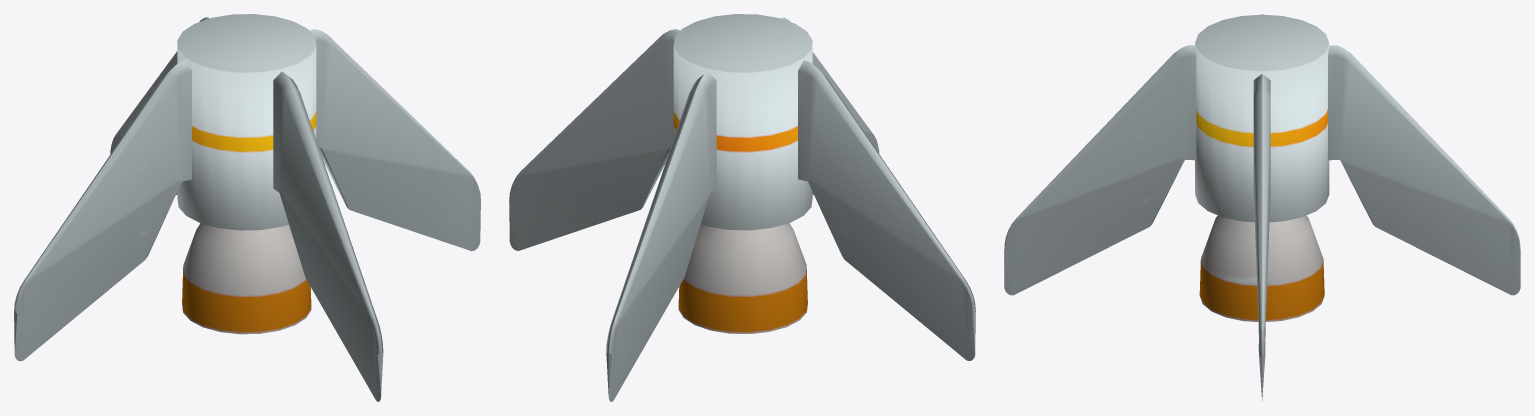
3 renders of one model, left to right at view 1: azimuth 30°, elevation 25°; view 2: azimuth 150°, elevation 25°; view 3: azimuth 270°, elevation 25°, orthographic. The views are drawn at different scales.
Visible parts, largest first — view 1: P5; view 2: P5; view 3: P5.
Part boxes in pixels (x1=…): P5: x1=14, y1=14, x2=480, y2=401; P5: x1=509, y1=14, x2=975, y2=401; P5: x1=1004, y1=14, x2=1520, y2=401.
Bounding box in the file's own units: 53.8 × 29.1 × 53.79.
Materials: 1 (1 with a texture image).
